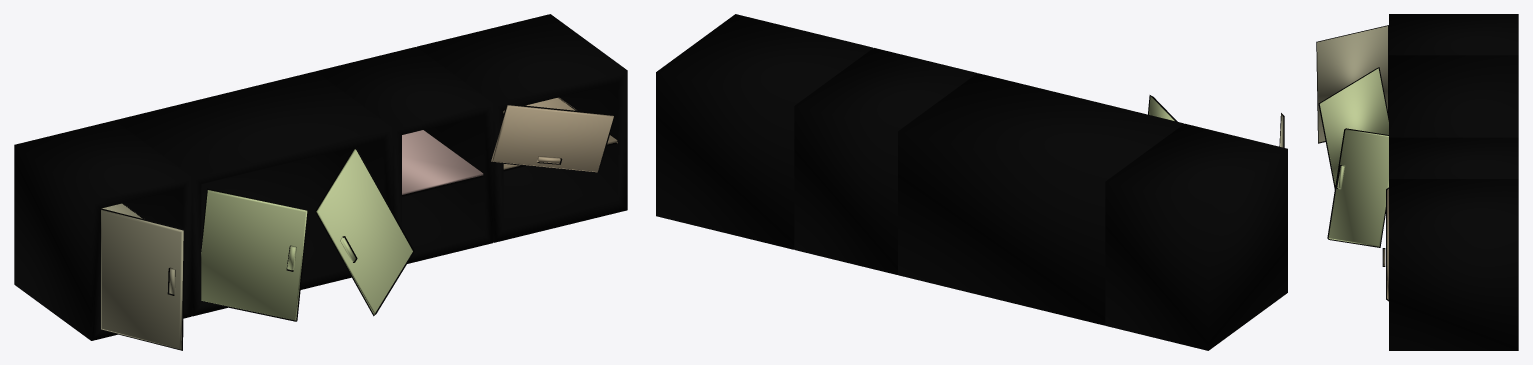
The model's file is Alacena.fbx.
3 renders of one model, left to right at view 1: azimuth 30°, elevation 25°; view 2: azimuth 150°, elevation 25°; view 3: azimuth 270°, elevation 25°, orthographic. The views are drawn at different scales.
Visible parts, largest first — view 1: 2Door.Upper, 1Door.Upper.L, Horizontal.Upper, 1Door.Upper; view 2: 2Door.Upper, 1Door.Upper.L, Horizontal.Upper, 1Door.Upper; view 3: Horizontal.Upper, 2Door.Upper, 1Door.Upper.L, 1Door.Upper.
Boxes of the visible parts, x1,y1,x2,y2 form: 2Door.Upper: (115, 71, 414, 321); 1Door.Upper.L: (14, 120, 191, 350); Horizontal.Upper: (417, 14, 627, 242); 1Door.Upper: (316, 47, 493, 263); 2Door.Upper: (898, 73, 1183, 325); 1Door.Upper.L: (1105, 113, 1287, 350); Horizontal.Upper: (656, 14, 872, 249); 1Door.Upper: (794, 48, 976, 274); Horizontal.Upper: (1382, 179, 1518, 350); 2Door.Upper: (1318, 55, 1518, 247); 1Door.Upper.L: (1316, 14, 1518, 143); 1Door.Upper: (1389, 137, 1518, 178).
Size of the model in its own units: 356 by 94.45 by 138.
